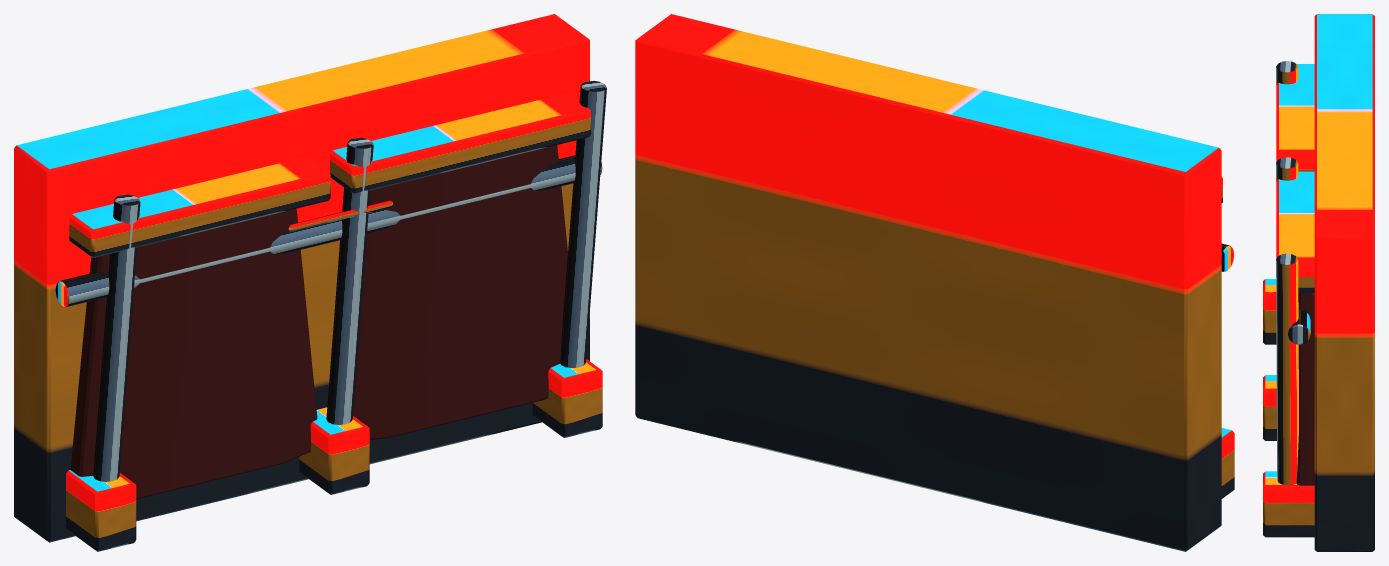
File: Bulkhead_Module.fbx
3 renders of one model, left to right at view 1: azimuth 30°, elevation 25°; view 2: azimuth 150°, elevation 25°; view 3: azimuth 270°, elevation 25°, orthographic. The views are drawn at different scales.
Visible parts, largest first — view 1: Bulkhead_Module; view 2: Bulkhead_Module; view 3: Bulkhead_Module.
Boxes of the visible parts, box(x1,y1,x2,y2) form: Bulkhead_Module: box(14, 14, 606, 551); Bulkhead_Module: box(635, 14, 1234, 551); Bulkhead_Module: box(1263, 14, 1374, 551).
Bounding box in the file's own units: 3.96 × 2.6 × 0.835.
